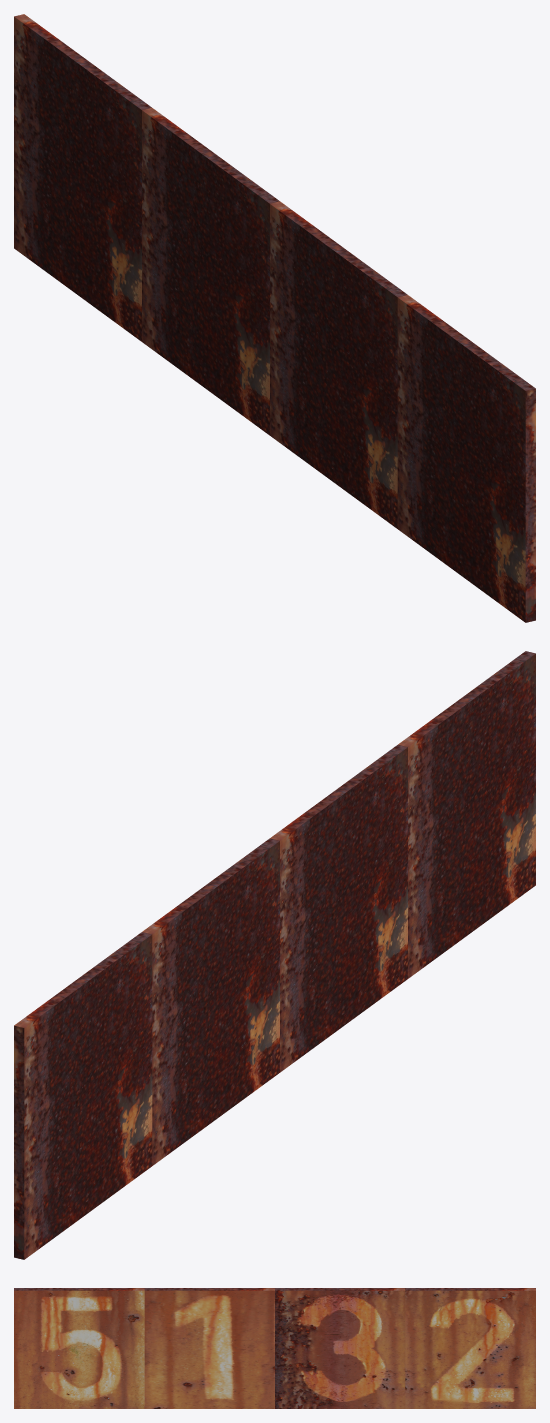
The model's file is Blender_LowPolyNumbersRusty.fbx.
3 views of the same model, one above another, from view 1: azimuth 30°, elevation 25°; view 2: azimuth 150°, elevation 25°; view 3: azimuth 270°, elevation 25° (orthographic). The views are drawn at different scales.
Parts seen in each view (by area): view 1: 5, 3, 1, 2; view 2: 2, 1, 3, 5; view 3: 3, 2, 1, 5.
Boxes of the visible parts, box(x1,y1,x2,y2) form: 5: box(397, 295, 535, 622); 3: box(142, 107, 279, 435); 1: box(270, 201, 407, 528); 2: box(14, 14, 151, 341); 2: box(14, 932, 152, 1259); 1: box(270, 744, 407, 1072); 3: box(142, 838, 279, 1165); 5: box(398, 651, 535, 978); 3: box(275, 1288, 405, 1408); 2: box(405, 1288, 535, 1408); 1: box(144, 1288, 274, 1408); 5: box(14, 1288, 144, 1408).
Bounding box in the file's own units: 9.26 × 200 × 800.
